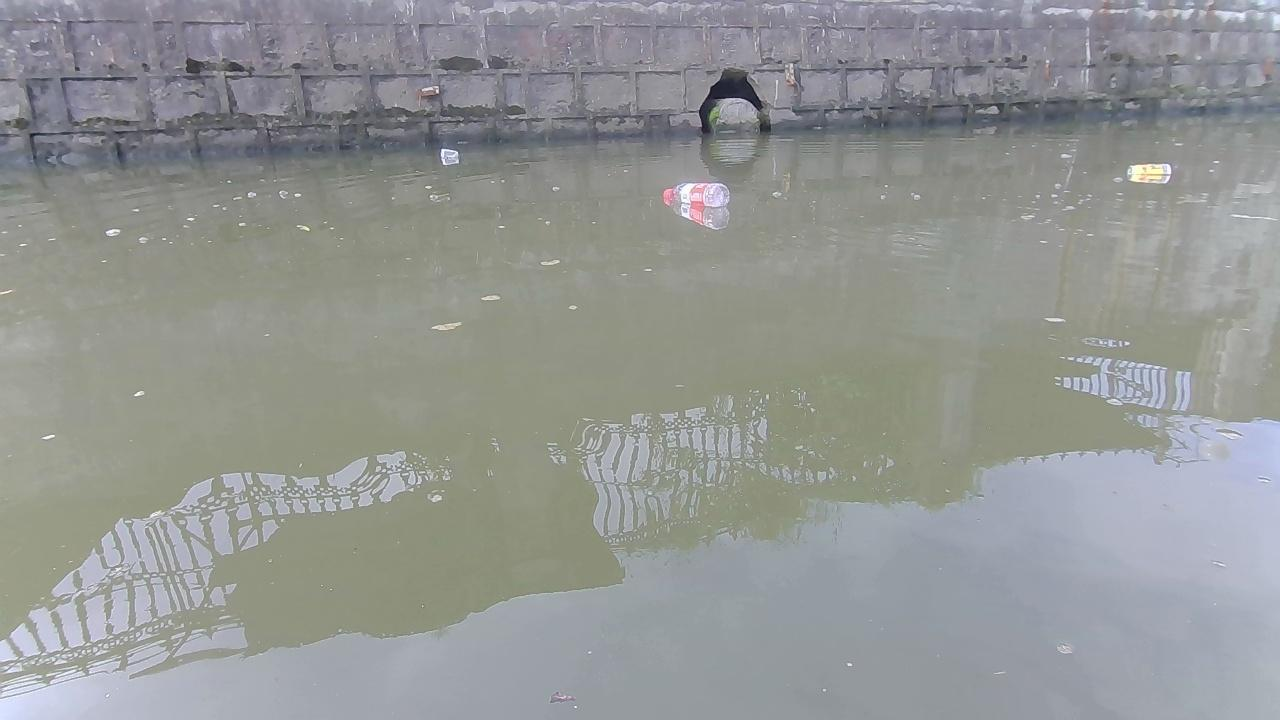bottle: (660, 181, 728, 212), (1126, 162, 1176, 181), (436, 147, 462, 157)
